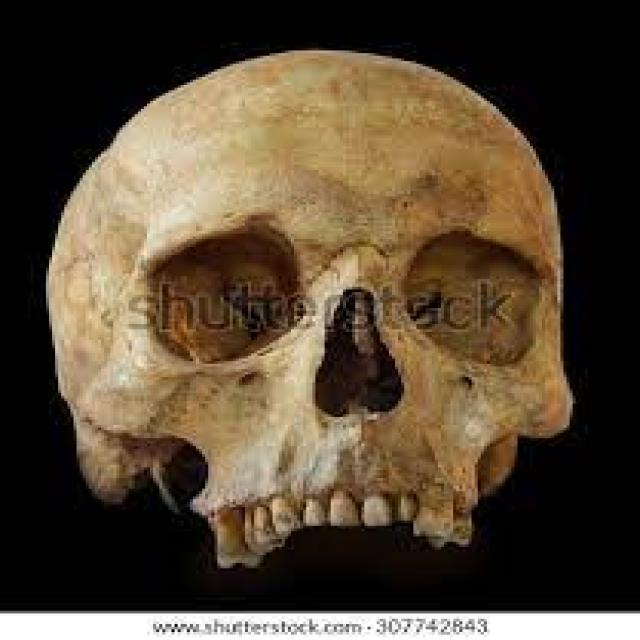skull: (33, 24, 613, 588)
